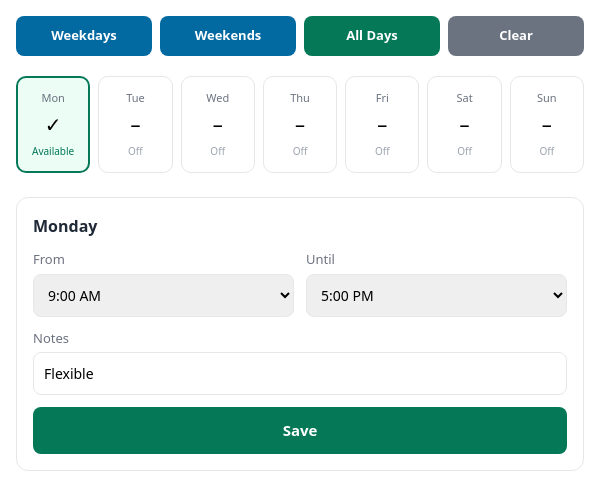
Test: PlayerAvailability › Clear preset removes all availability
expect the heading "Monday" is shown: met, box top-left (33, 214), bottom-right (97, 238)
# Click "Clear" preset
What coordinates should you click on to do the following:
click the button "Clear"
I would click on:
 (516, 36)
Its box is top-left (448, 16), bottom-right (584, 56).
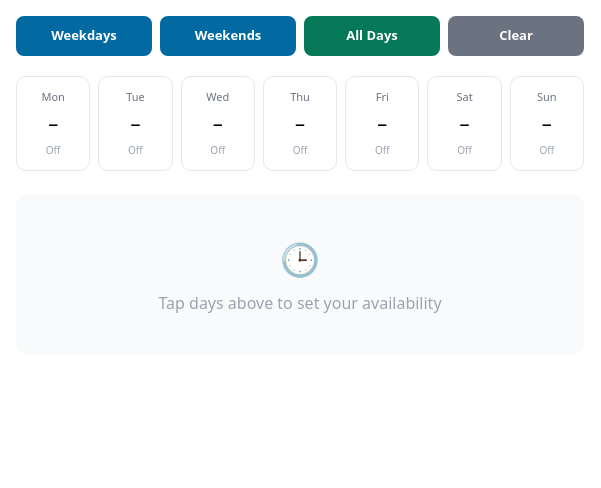
expect the heading "Monday" is gone: met
